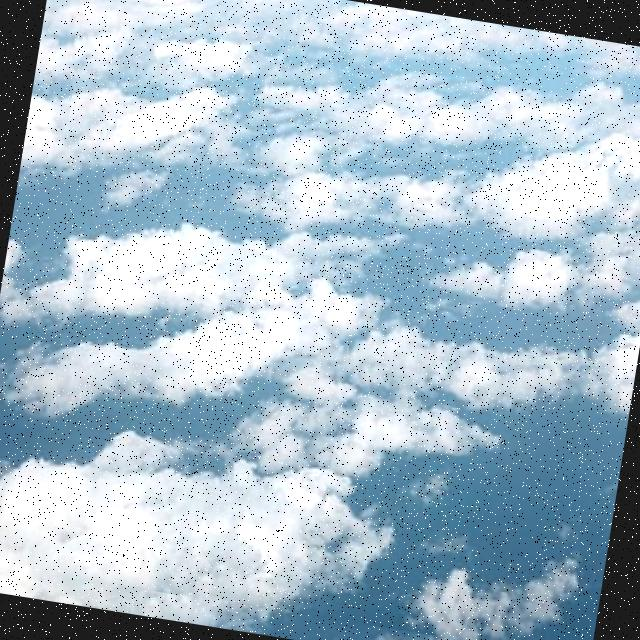Cc: (1, 1, 640, 613)
